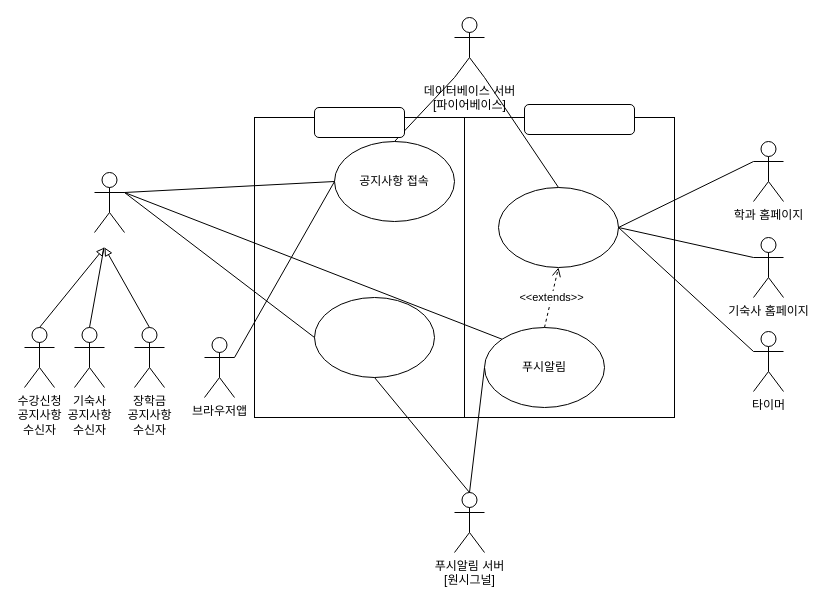
Image size: 826x606. Some labels were removed from this diagram. Here are the shapes that lost their labels. From the top down, the box of each, then its label:
(314, 106, 404, 138): 경상대 알림 앱
(524, 104, 634, 134): 경상대 알림 서버
(94, 172, 124, 232): 경상대학생
(498, 186, 618, 268): 공지사항 크롤링
(314, 296, 434, 378): 푸시알림 수신 설정
